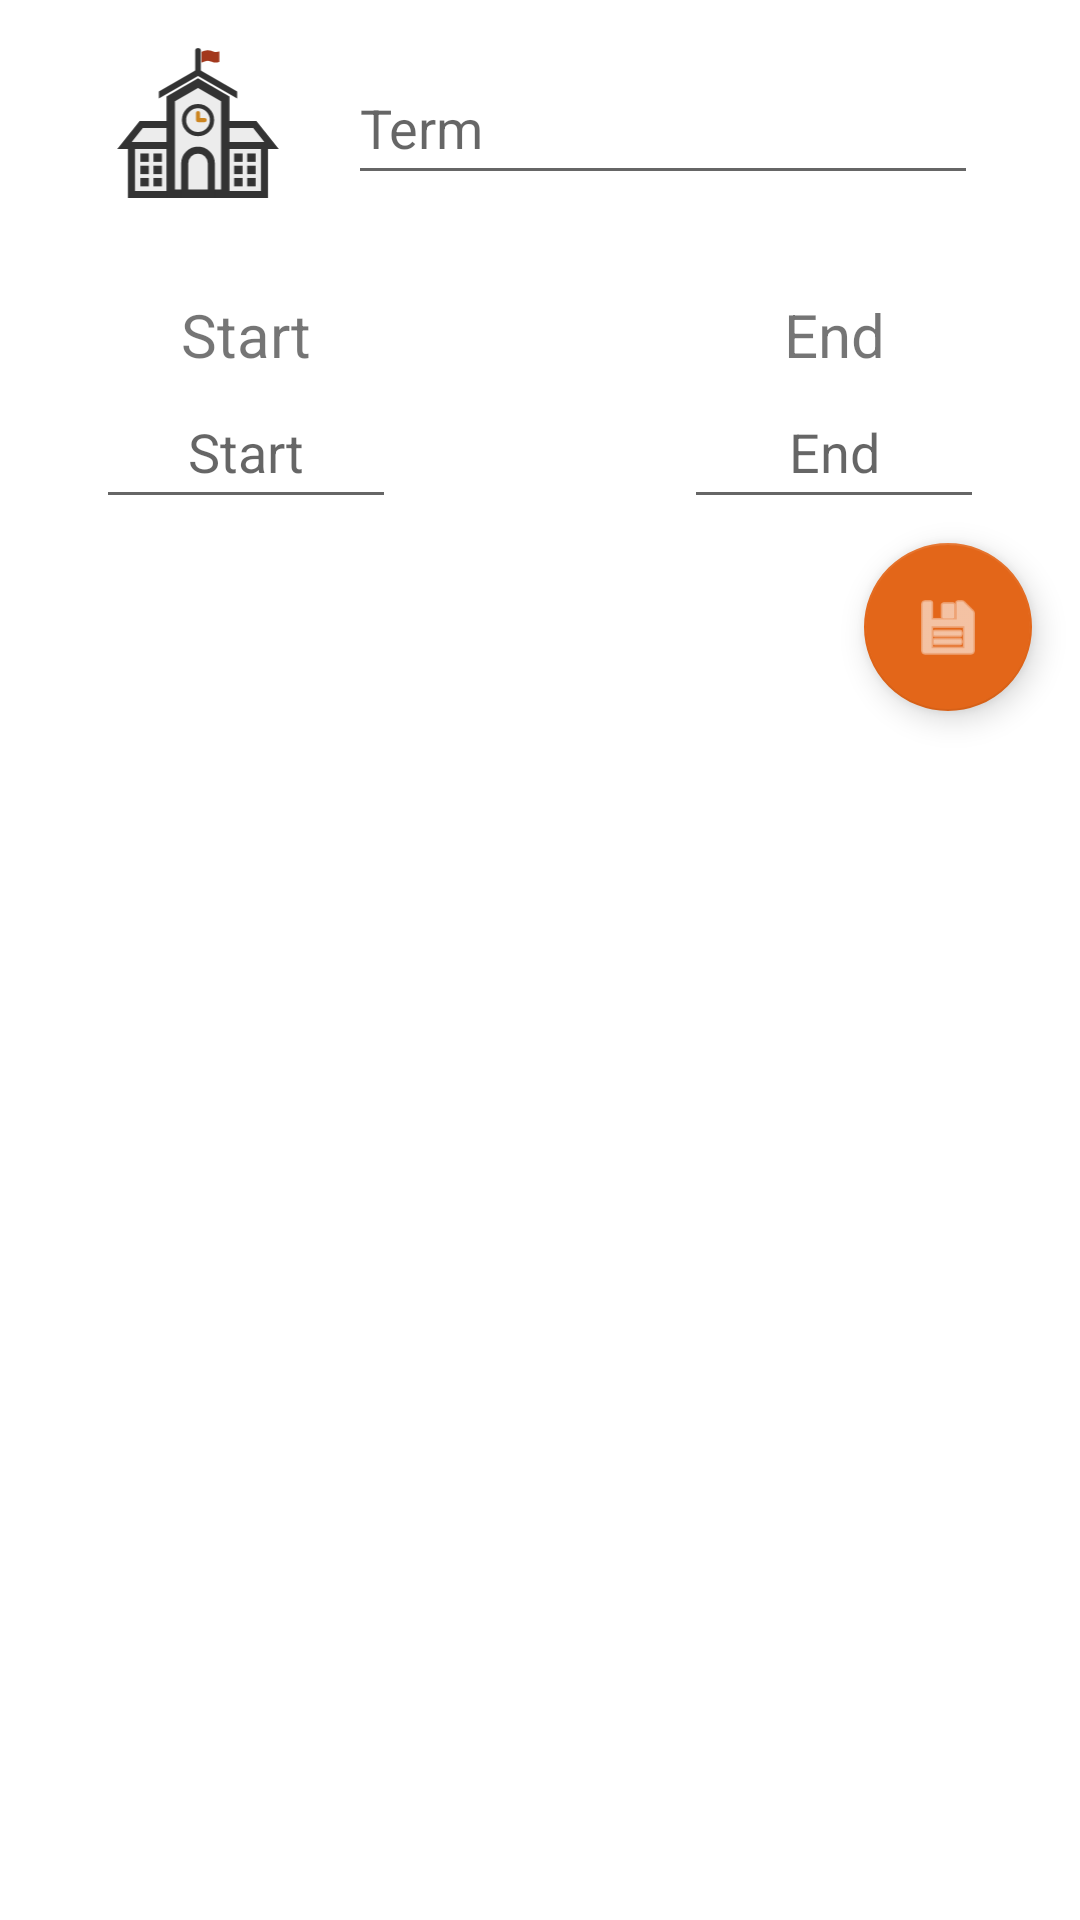

Icons on this 1080x1920 Android screen, each with its box as (x1, y1, x2, y2):
Save: (864, 543, 1032, 711)
